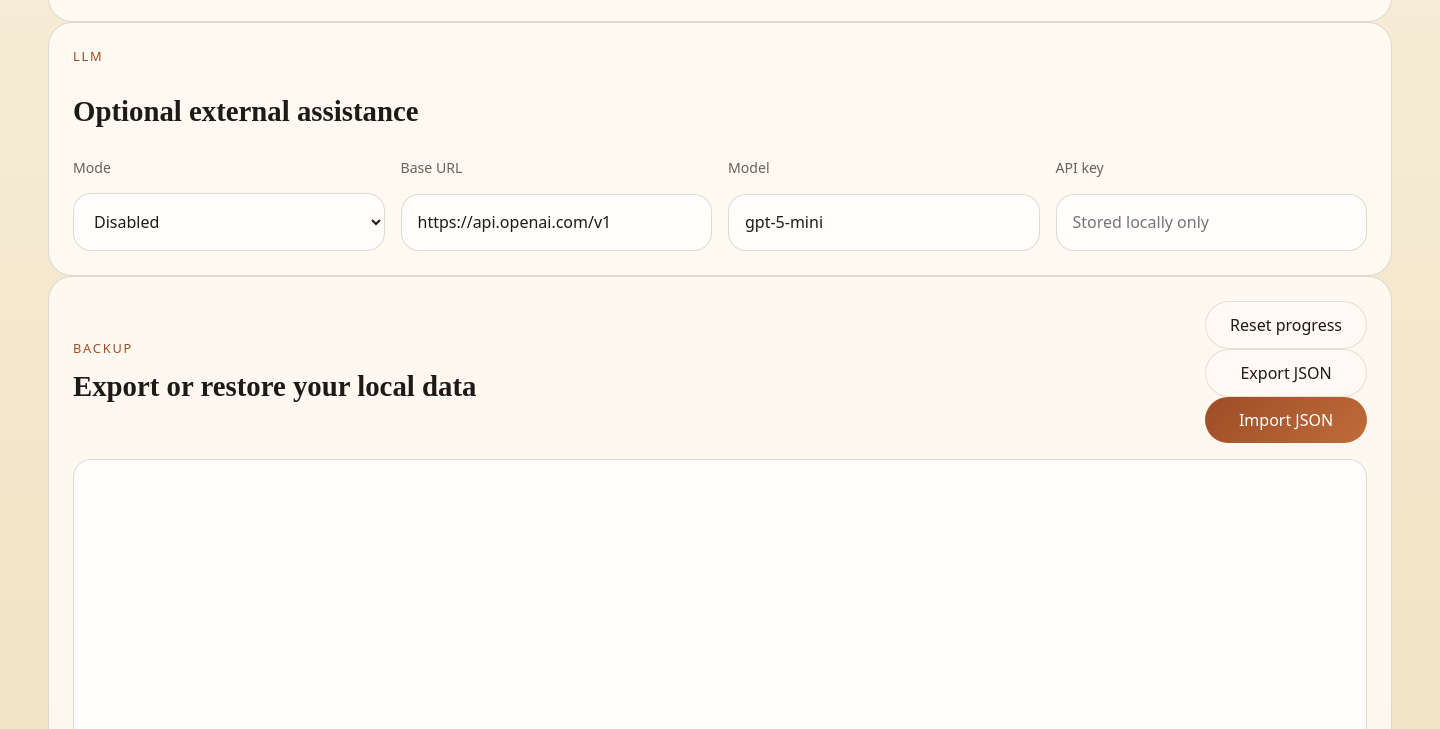
SettingsPage › resets progress without deleting stored entries
(page scrolled)
Click the button "Reset progress": {"x": 1286, "y": 325} [1205, 301, 1367, 349]
(page scrolled)
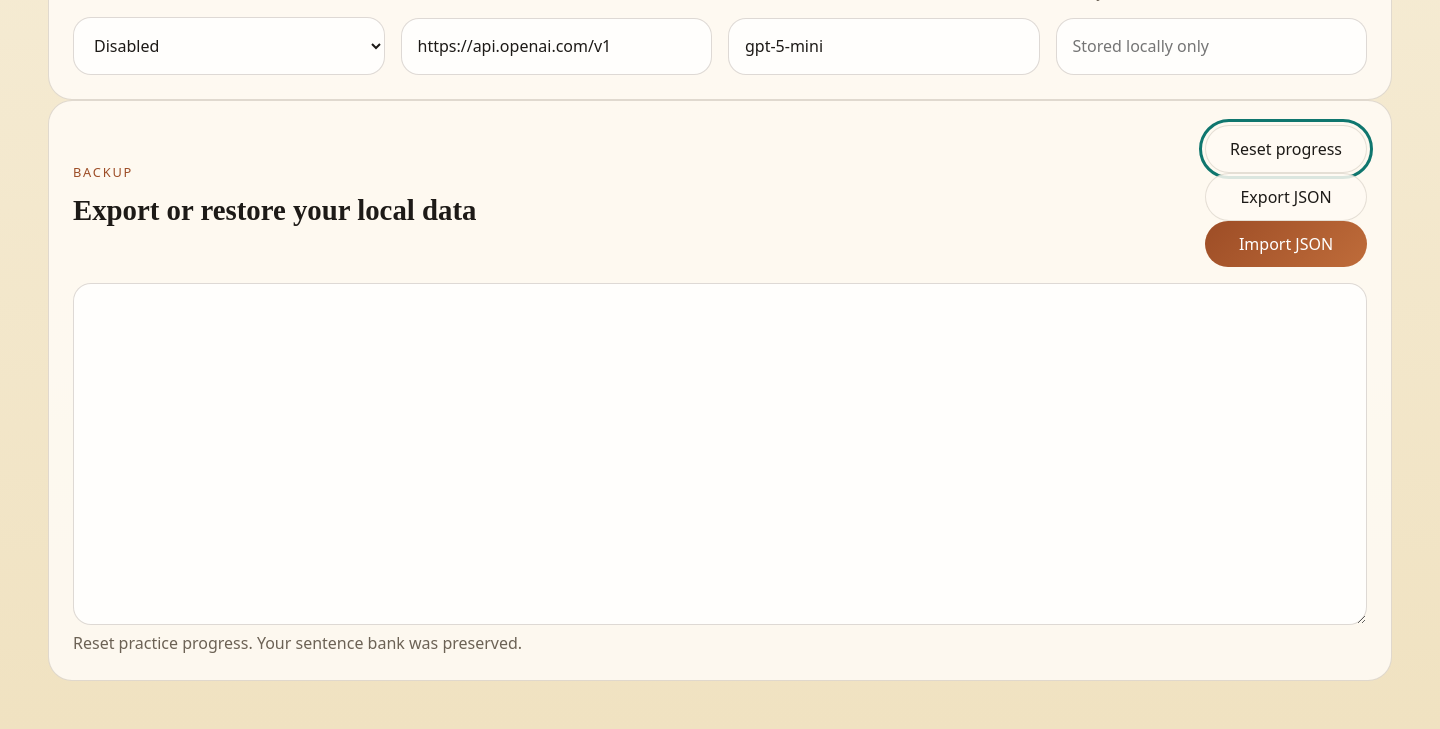
Expected: the text "Reset practice progress. Your sentence bank was preserved." is shown, [73, 632, 522, 654]
